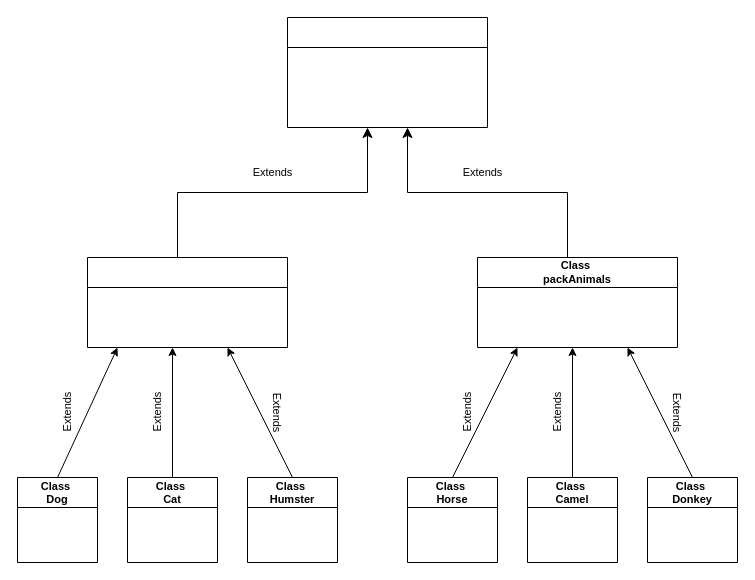
Some shapes in this 755 by 580 pixel diagram are drawn without their labels. The centre of each missing label's shape, as x and y in pixels:
"Class Animals" goes at pixel 387 72.
"Class homeAnimals" goes at pixel 187 302.
